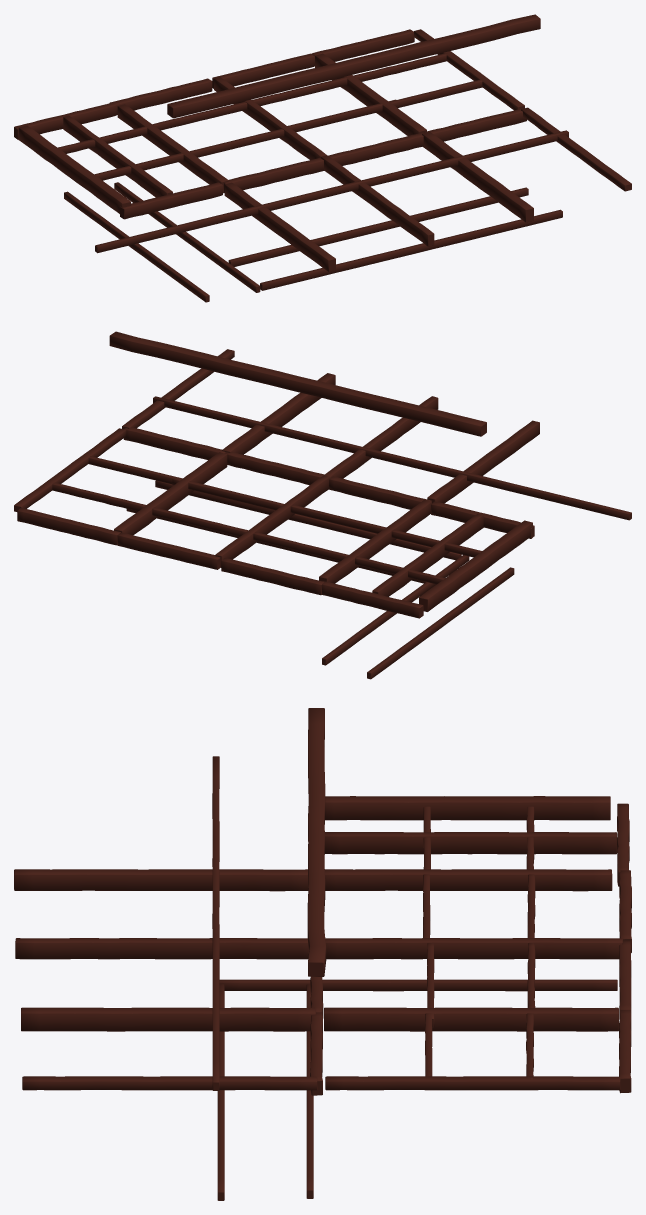
File: Beams_mdl.fbx
3 renders of one model, top to bottom at view 1: azimuth 30°, elevation 25°; view 2: azimuth 150°, elevation 25°; view 3: azimuth 270°, elevation 25°, orthographic. The views are drawn at different scales.
Parts seen in each view (by area): view 1: Cube.044, Cube.073, Cube.092, Cube.061, Cube.091, Cube.069, Cube.072, Cube.070, Cube.062, Cube.064, Cube.050, Cube.056 (+20 smaller); view 2: Cube.044, Cube.073, Cube.061, Cube.050, Cube.072, Cube.062, Cube.056, Cube.064, Cube.069, Cube.092, Cube.094, Cube.070 (+20 smaller); view 3: Cube.069, Cube.050, Cube.061, Cube.072, Cube.064, Cube.070, Cube.056, Cube.062, Cube.044, Cube.093, Cube.057, Cube.071 (+8 smaller).
Part boxes in pixels (box(x1,y1,x2,y2)): Cube.044: box(167, 14, 540, 118); Cube.073: box(95, 130, 568, 253); Cube.092: box(260, 209, 562, 290); Cube.061: box(18, 125, 130, 213); Cube.091: box(228, 187, 528, 266); Cube.069: box(422, 132, 533, 222); Cube.072: box(224, 182, 335, 271); Cube.070: box(321, 155, 434, 246); Cube.062: box(117, 104, 228, 193); Cube.064: box(63, 115, 172, 197); Cube.050: box(315, 53, 426, 135); Cube.056: box(214, 77, 326, 160); Cube.044: box(109, 331, 486, 436); Cube.073: box(153, 396, 631, 520); Cube.061: box(419, 520, 532, 611); Cube.050: box(114, 452, 227, 535); Cube.072: box(427, 420, 539, 503); Cube.062: box(319, 500, 431, 583); Cube.056: box(215, 475, 329, 567); Cube.064: box(372, 514, 483, 596); Cube.069: box(222, 373, 335, 454); Cube.092: box(155, 480, 461, 560); Cube.094: box(367, 567, 514, 679); Cube.070: box(324, 396, 438, 478); Cube.069: box(21, 1007, 315, 1031); Cube.050: box(324, 1007, 618, 1031); Cube.061: box(325, 796, 610, 820); Cube.072: box(14, 869, 308, 891); Cube.064: box(325, 832, 616, 854); Cube.070: box(15, 938, 308, 959); Cube.056: box(325, 938, 622, 959); Cube.062: box(325, 869, 612, 891); Cube.044: box(307, 708, 326, 976); Cube.093: box(219, 979, 617, 991); Cube.057: box(325, 1076, 620, 1090); Cube.071: box(22, 1076, 317, 1090).
Size of the model in its own units: 1335 by 463 by 1056.
